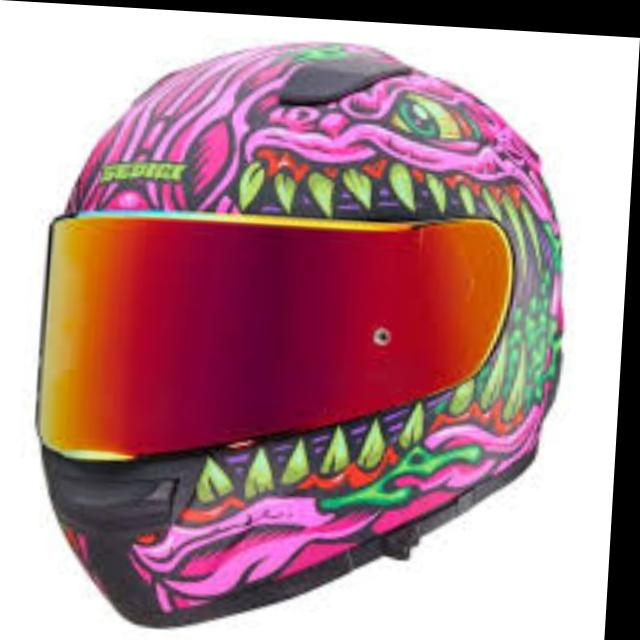motorcycle-helmets: (35, 44, 557, 624)
